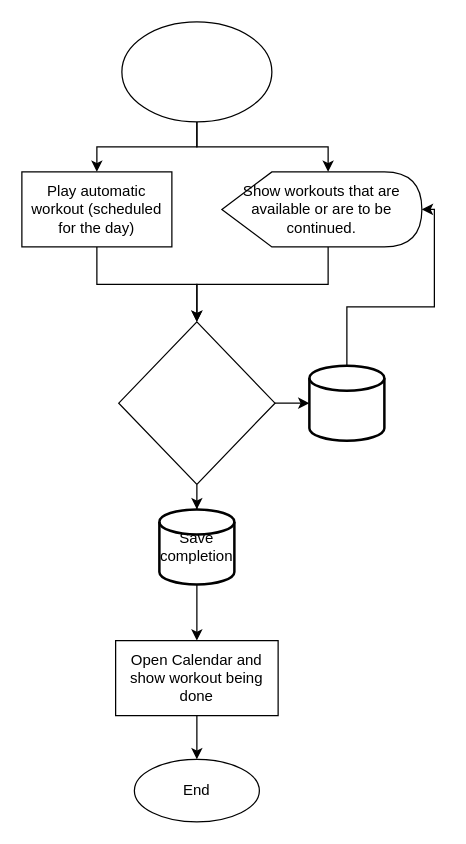
This 466x844 diagram has some shape labels left out. The centre of each missing label's shape, as x and y in pixels:
Open player: point 196,71
Play until completion, or pause and exit: point 196,402
Save progress: point 346,402
